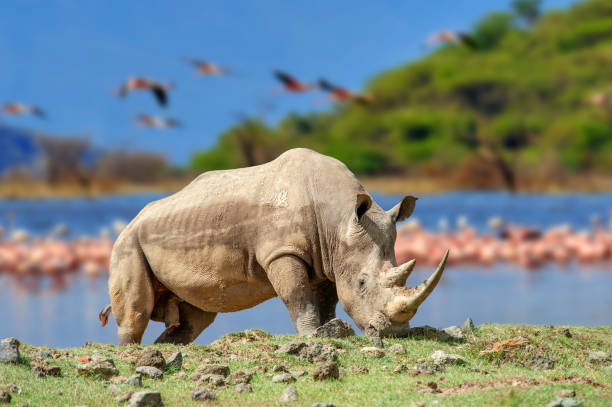rhino: (335, 177, 461, 344)
